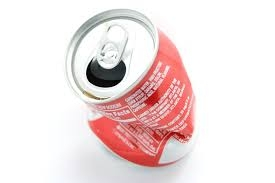metal: (62, 3, 205, 177)
